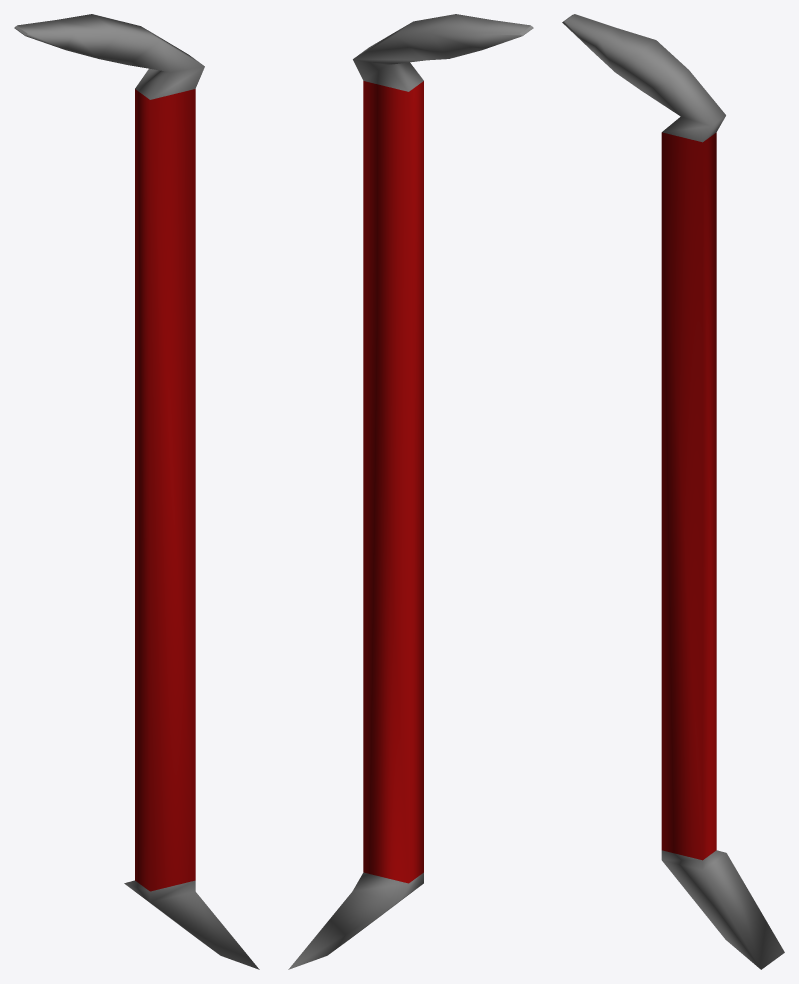
The model's file is crowbar.glb.
3 views of the same model, side by side, from view 1: azimuth 30°, elevation 25°; view 2: azimuth 150°, elevation 25°; view 3: azimuth 330°, elevation 25° (orthographic). The views are drawn at different scales.
Parts seen in each view (by area): view 1: Cube; view 2: Cube; view 3: Cube.
Part boxes in pixels (box(x1,y1,x2,y2)): Cube: box(14, 14, 259, 969); Cube: box(288, 14, 533, 969); Cube: box(562, 14, 784, 969).
Size of the model in its own units: 0.1001 by 0.4149 by 0.02.
